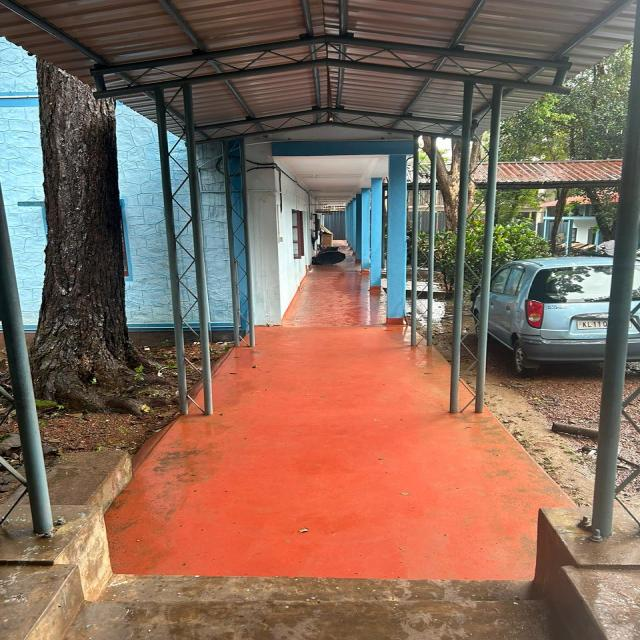pillar ahead at: (152, 81, 224, 418), (441, 81, 498, 419)
